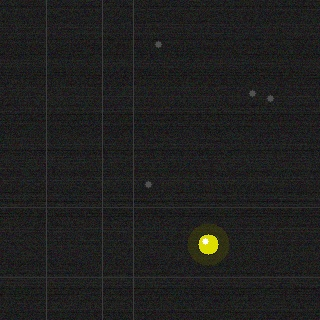yellow_warning: (196, 232, 220, 256)
